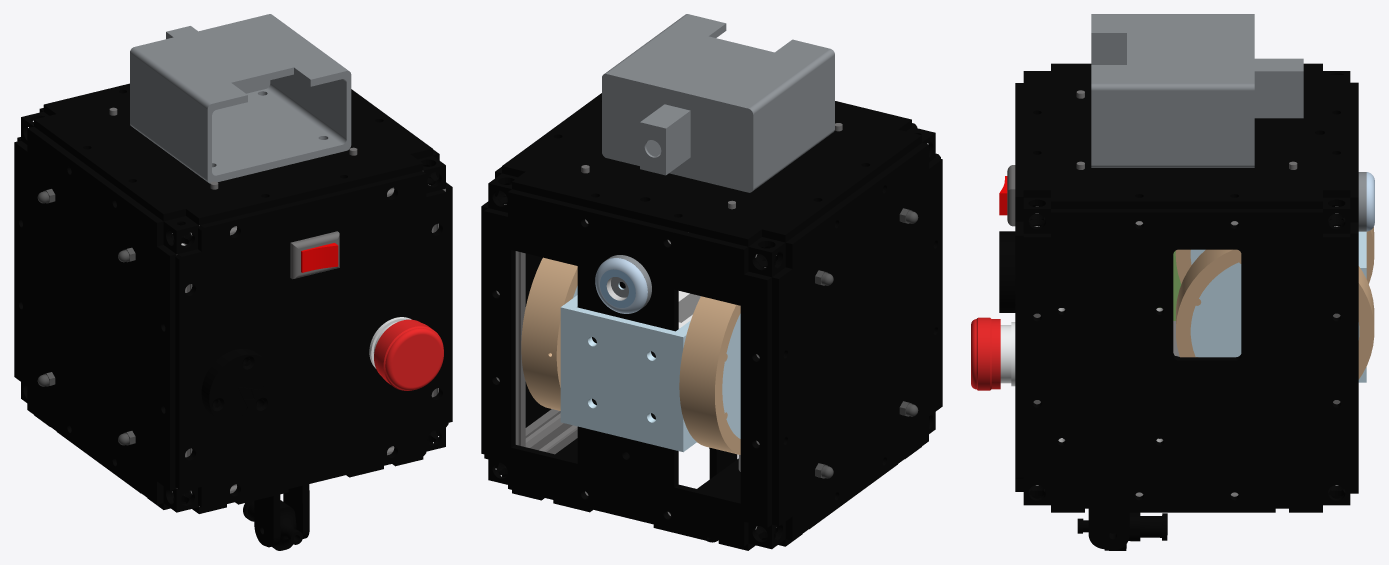
Rendered from assemblage robot principal.gltf.
3 renders of one model, left to right at view 1: azimuth 30°, elevation 25°; view 2: azimuth 150°, elevation 25°; view 3: azimuth 270°, elevation 25°, orthographic. The views are drawn at different scales.
Parts seen in each view (by area): view 1: plaque de kotei (×3), dessus, Part 1 (×6), liaison cube (×3), switch_main, switch_second, avant; view 2: plaque de kotei (×3), dessous, Part 1 (×3), pneu (×2), MB300 (×2), liaison cube (×3), avant (×2), Part 2, impression, 17HS08-1004S; view 3: plaque de kotei (×2), Part 1 (×6), pneu (×2), impression, dessous, dessus, liaison cube (×4), avant, Part 2 (×2), switch_main.
Boxes of the visible parts, bbox=[...] form: plaque de kotei (×3): bbox=[14, 83, 452, 504]; dessus: bbox=[175, 171, 448, 509]; Part 1 (×6): bbox=[130, 14, 443, 550]; liaison cube (×3): bbox=[163, 155, 445, 512]; switch_main: bbox=[290, 231, 339, 279]; switch_second: bbox=[301, 243, 338, 272]; avant: bbox=[34, 415, 288, 513]; plaque de kotei (×3): bbox=[481, 93, 942, 540]; dessous: bbox=[484, 189, 771, 546]; Part 1 (×3): bbox=[560, 14, 834, 452]; pneu (×2): bbox=[521, 257, 740, 454]; MB300 (×2): bbox=[496, 204, 577, 454]; liaison cube (×3): bbox=[488, 173, 785, 549]; avant (×2): bbox=[502, 438, 921, 550]; Part 2: bbox=[595, 258, 647, 313]; impression: bbox=[722, 313, 740, 438]; 17HS08-1004S: bbox=[678, 291, 700, 328]; plaque de kotei (×2): bbox=[1023, 63, 1350, 508]; Part 1 (×6): bbox=[971, 14, 1366, 550]; pneu (×2): bbox=[1175, 227, 1374, 379]; impression: bbox=[1190, 262, 1359, 357]; dessous: bbox=[1350, 82, 1358, 493]; dessus: bbox=[1015, 83, 1023, 491]; liaison cube (×4): bbox=[1023, 197, 1350, 505]; avant: bbox=[1032, 495, 1341, 512]; Part 2 (×2): bbox=[1000, 172, 1374, 383]; switch_main: bbox=[1007, 165, 1015, 226].
Bounding box in the file's own units: 0.132 × 0.2003 × 0.1483.
